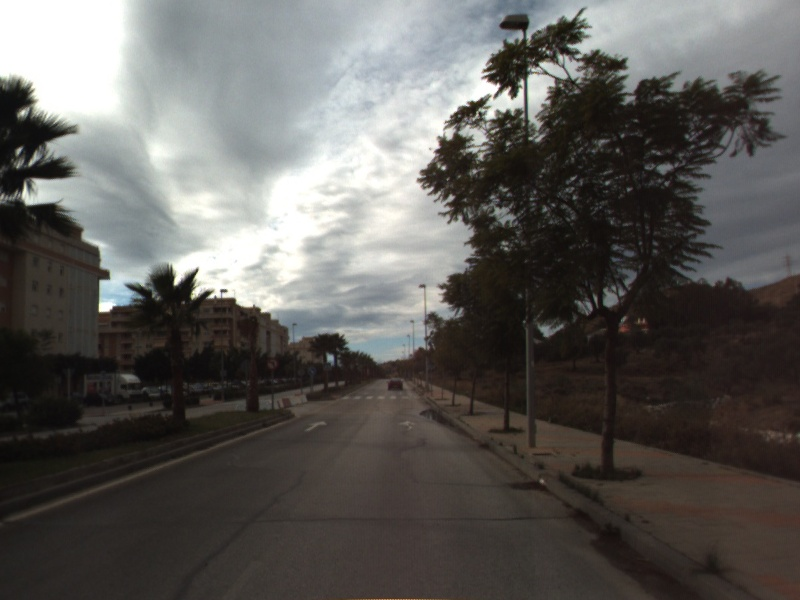STRAIGHT: (302, 419, 330, 434), (396, 418, 419, 433)
